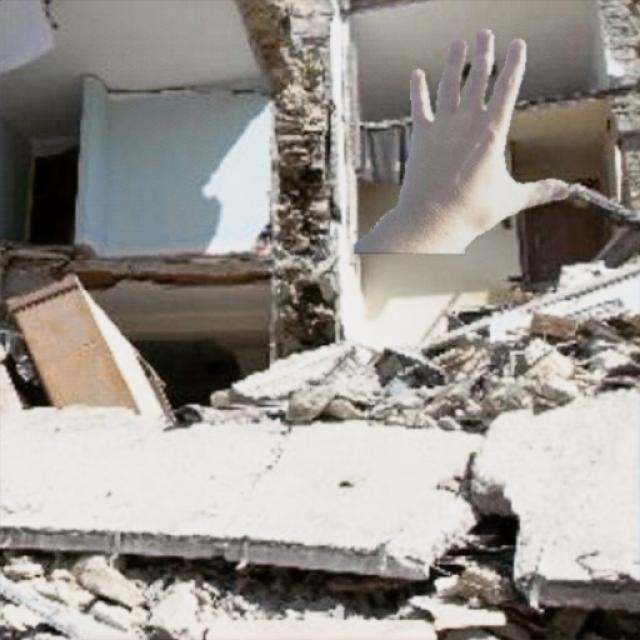Person in Rubble: (353, 29, 568, 252)
